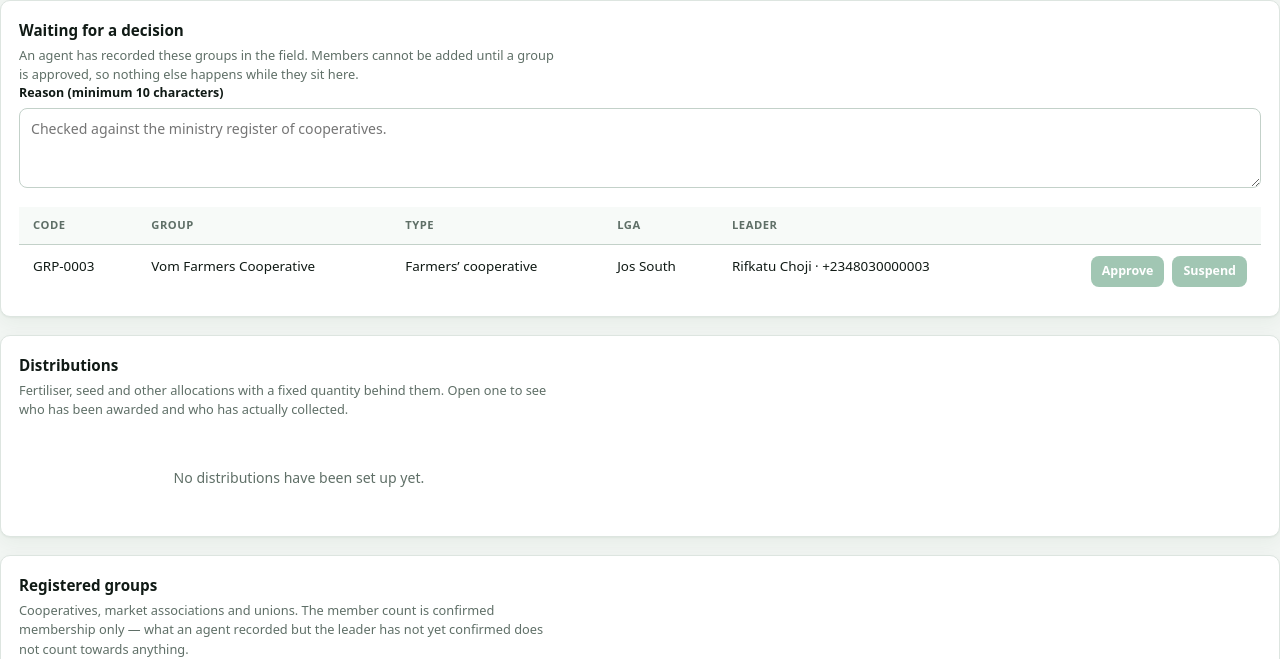
Test case: a group’s part in enumeration › will not confer standing until a reason has been written
The image size is (1280, 659).
In the text box labelled "Reason (minimum 10 characters)": (640,148) [19,108,1261,188], type "Recognised under the market bye-law of 2026."
(page scrolled)
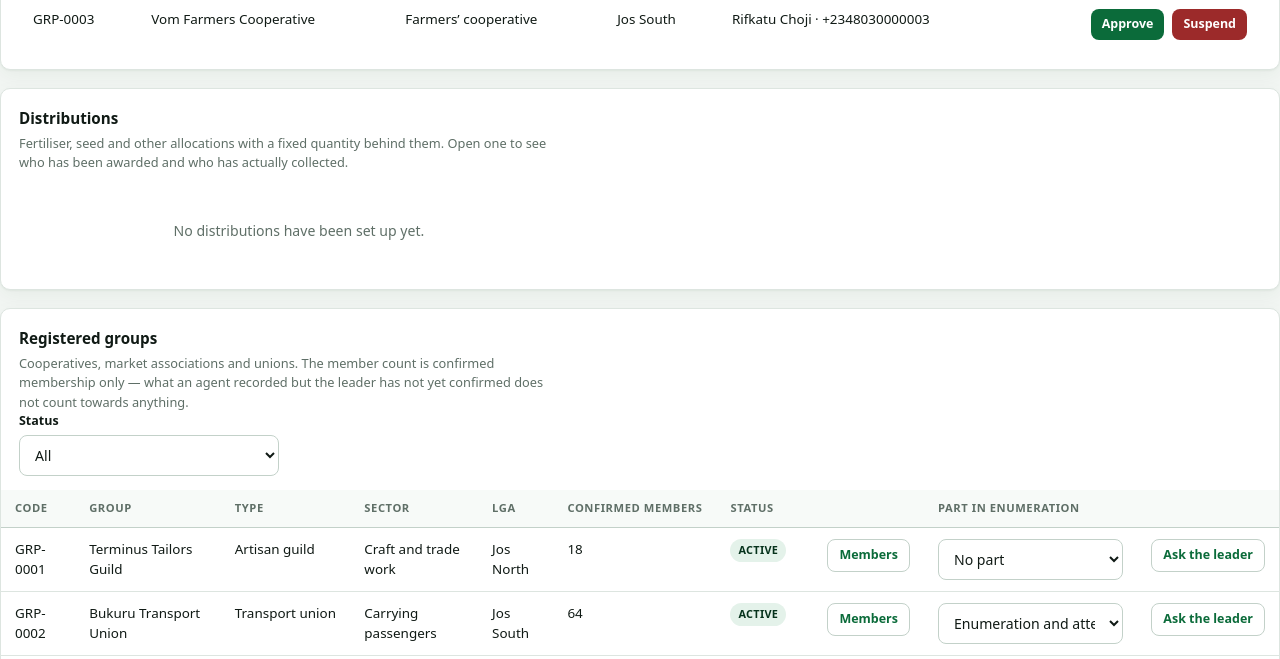
Now the dropdown named "Part in enumeration — Terminus Tailors Guild" is enabled, box [938,539,1123,580]
